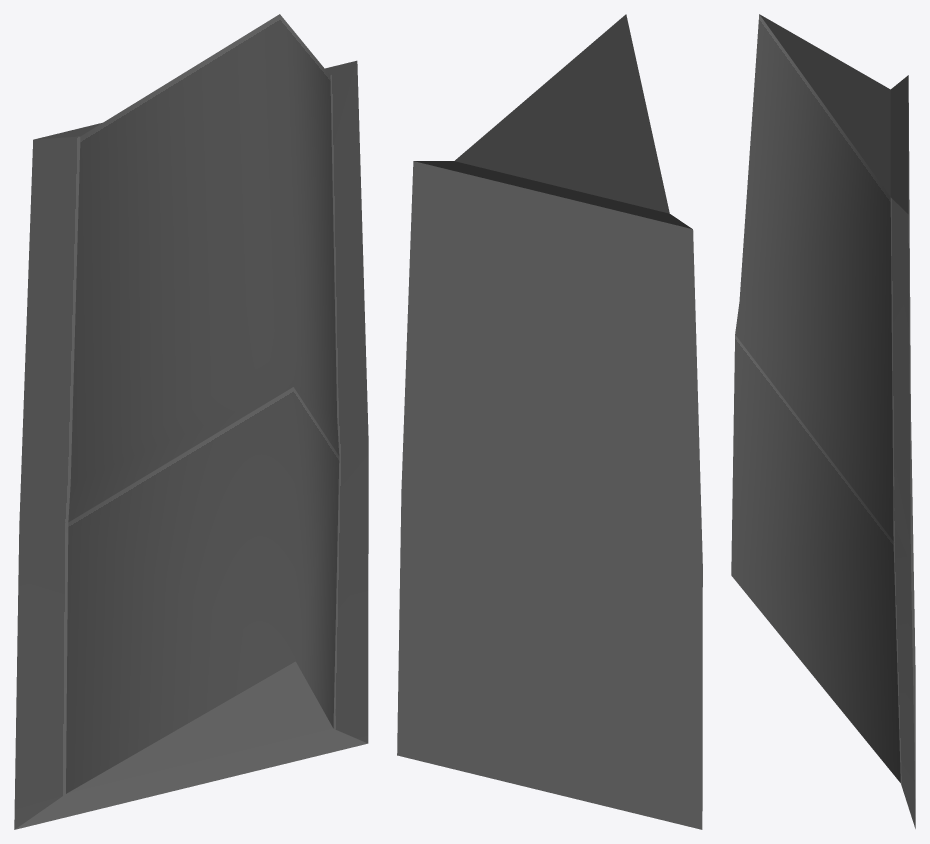
Rendered from ship_vt_01.glb.
3 views of the same model, side by side, from view 1: azimuth 30°, elevation 25°; view 2: azimuth 150°, elevation 25°; view 3: azimuth 270°, elevation 25° (orthographic). The views are drawn at different scales.
Visible parts, largest first — view 1: group_13; view 2: group_13; view 3: group_13.
Part boxes in pixels (x1,y1,x2,y2): group_13: (14,14,368,829); group_13: (397,14,702,829); group_13: (731,14,915,828).
Bounding box in the file's own units: 1886 × 4266 × 964.
1 material, 1 textured.
